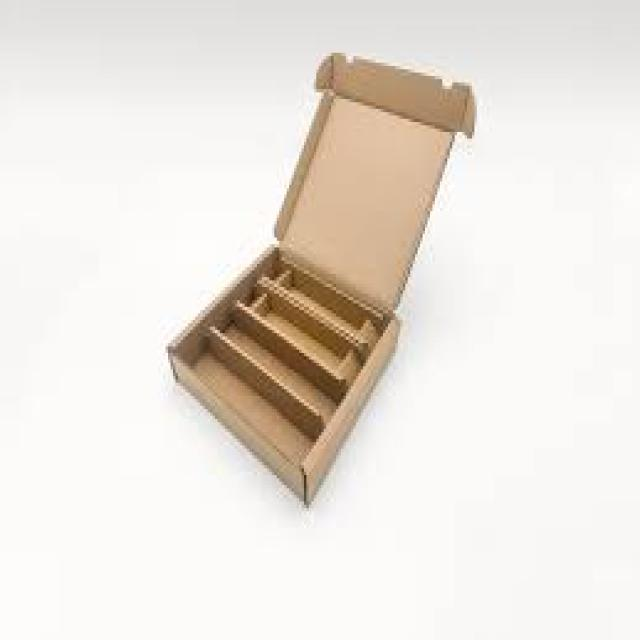cardboard: (163, 53, 472, 501)
